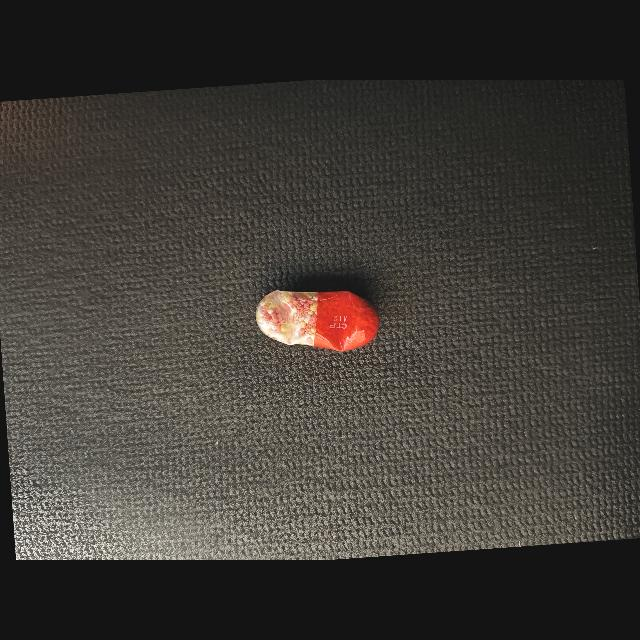Defective Capsule: (256, 290, 380, 352)
